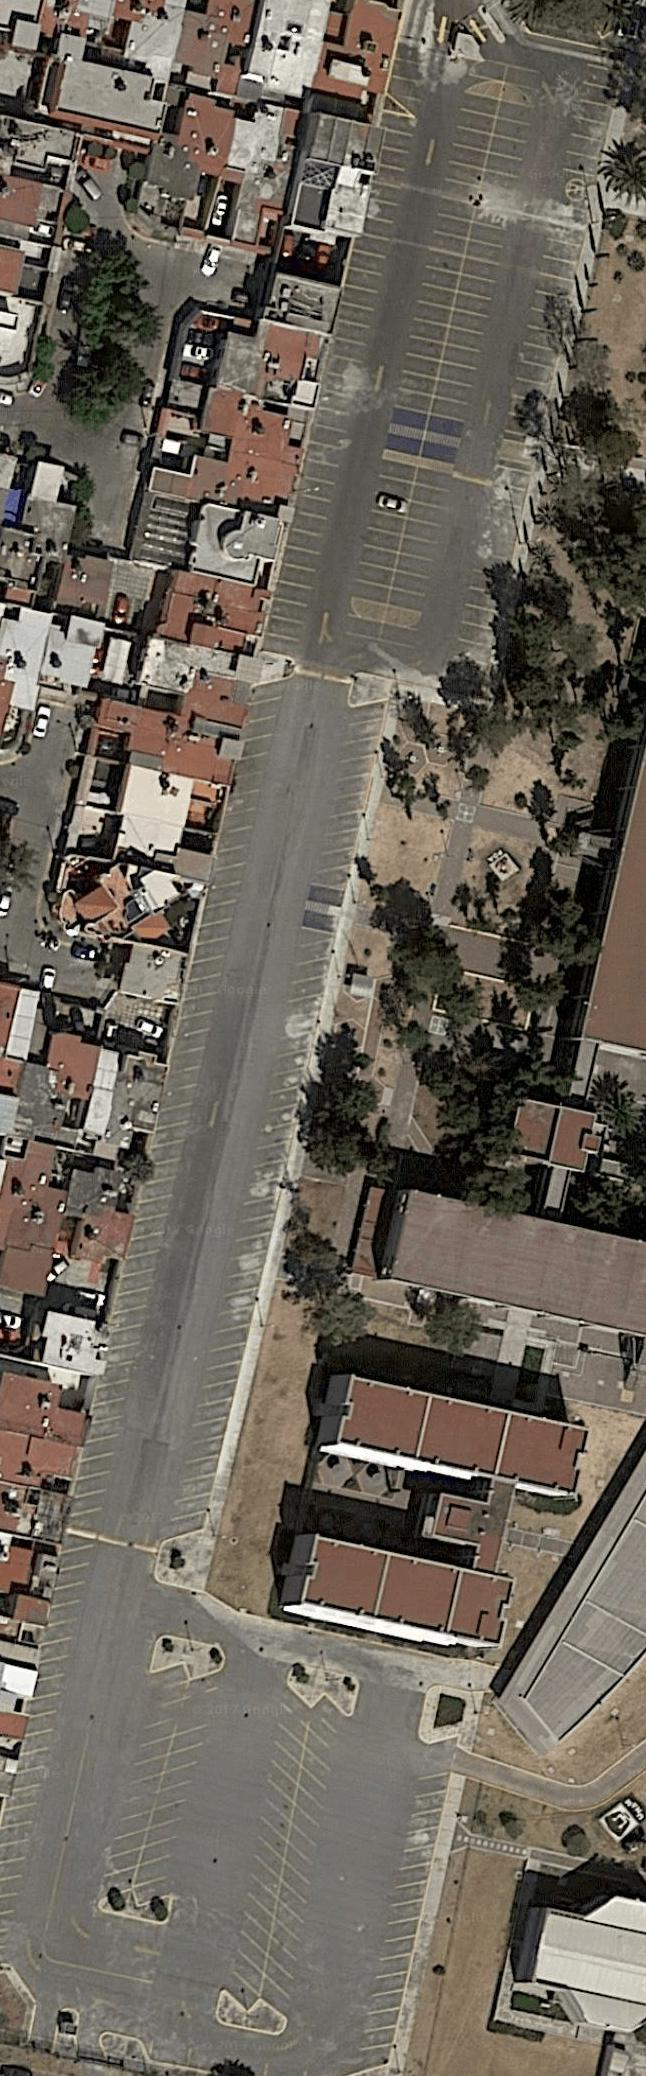parkingspot: (65, 675, 294, 1520), (163, 935, 338, 1542), (258, 124, 416, 659), (389, 91, 536, 440), (0, 1542, 99, 1963), (218, 1681, 312, 2012), (352, 1770, 451, 2076), (258, 1692, 349, 2022), (95, 1662, 191, 1903), (130, 1668, 225, 1908), (500, 234, 585, 450), (449, 463, 533, 669), (349, 457, 455, 616), (312, 698, 391, 876), (561, 62, 623, 179), (385, 40, 436, 105), (342, 612, 420, 650), (465, 56, 541, 94), (383, 432, 461, 466), (377, 109, 420, 138)
